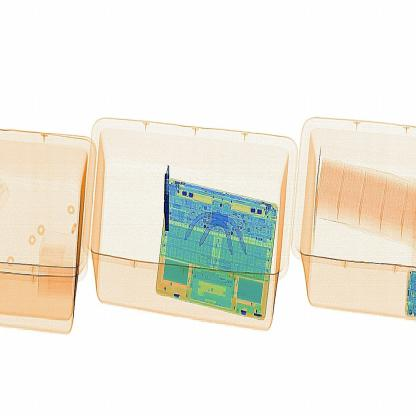pliers: (155, 150, 187, 238)
